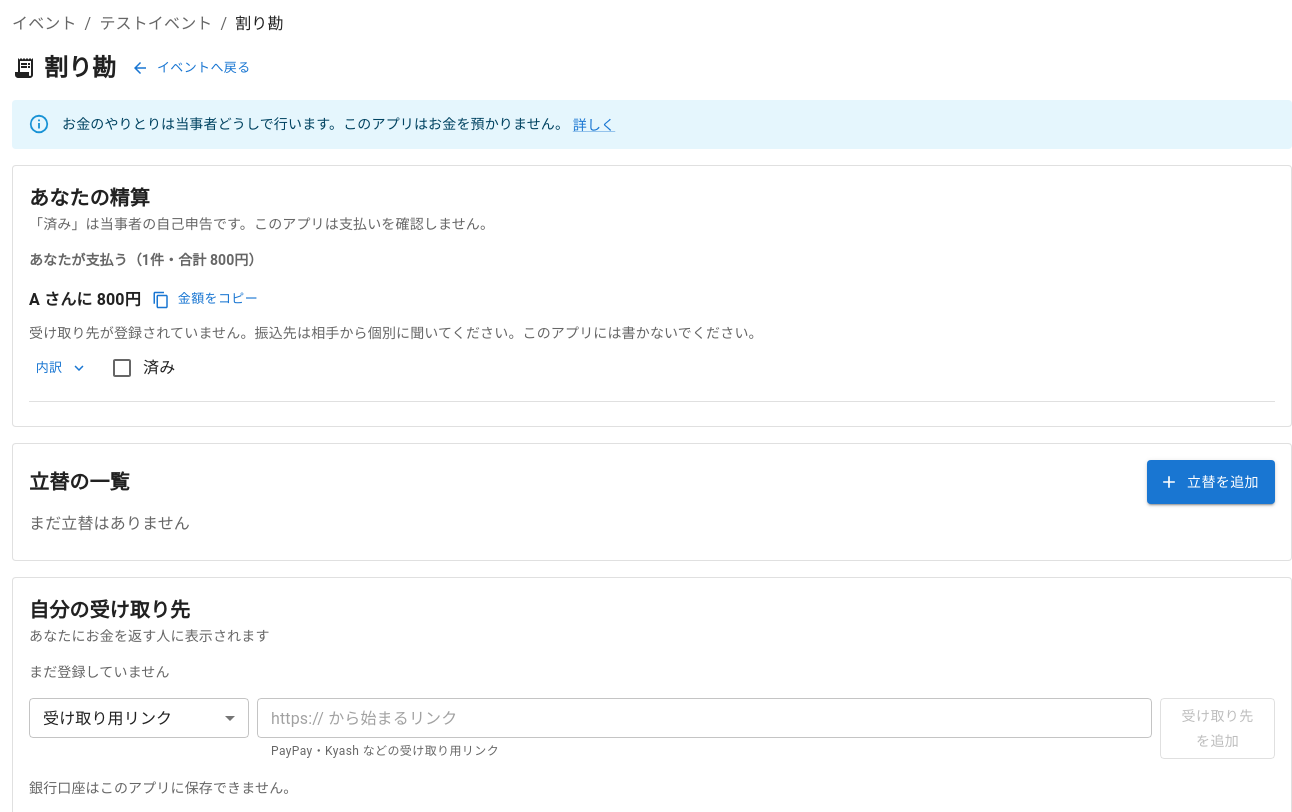
Test: 割り勘ページ › 409 amount_changed なら案内を出して取り直す
Step 1. Click the checkbox labelled "済み" → coordinates (143, 368), box [110,356,175,380]
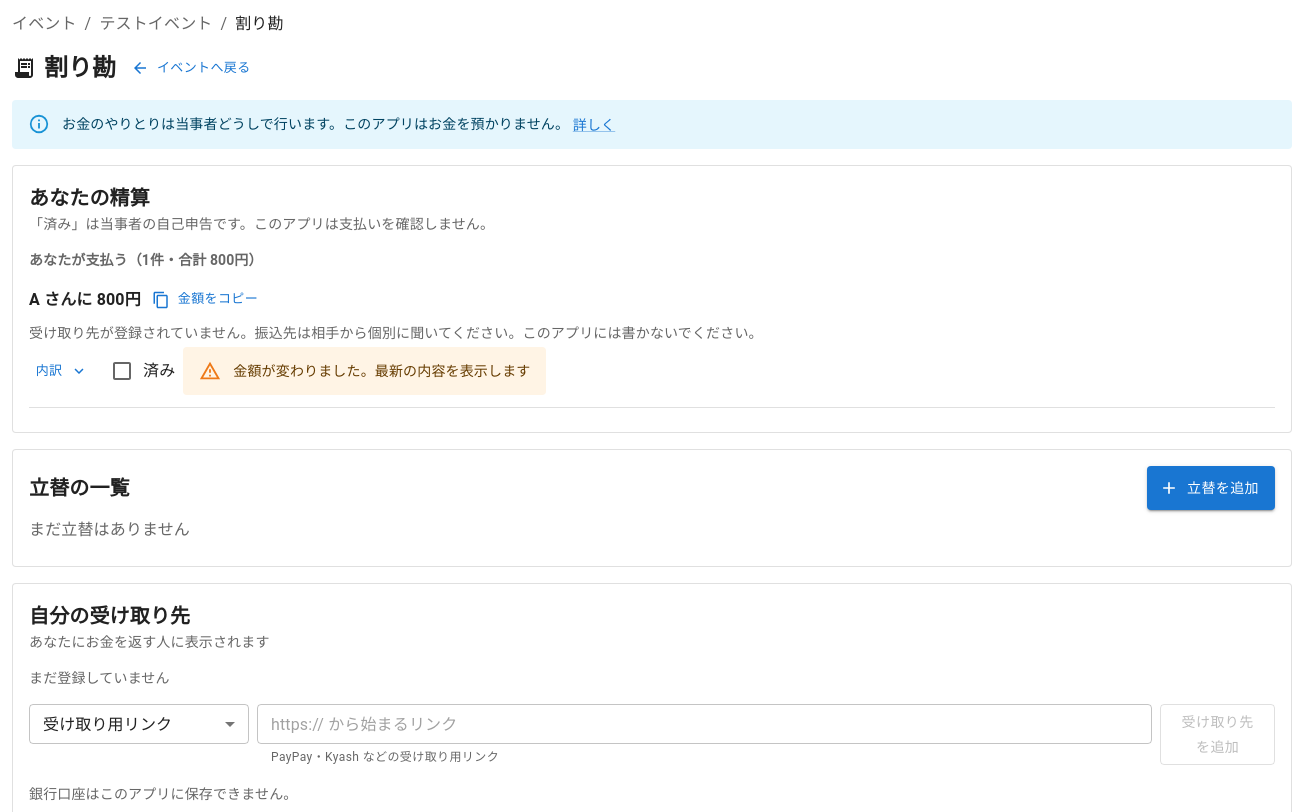
Expected: the text "金額が変わりました。最新の内容を表示します" is shown, [233,363,530,379]
